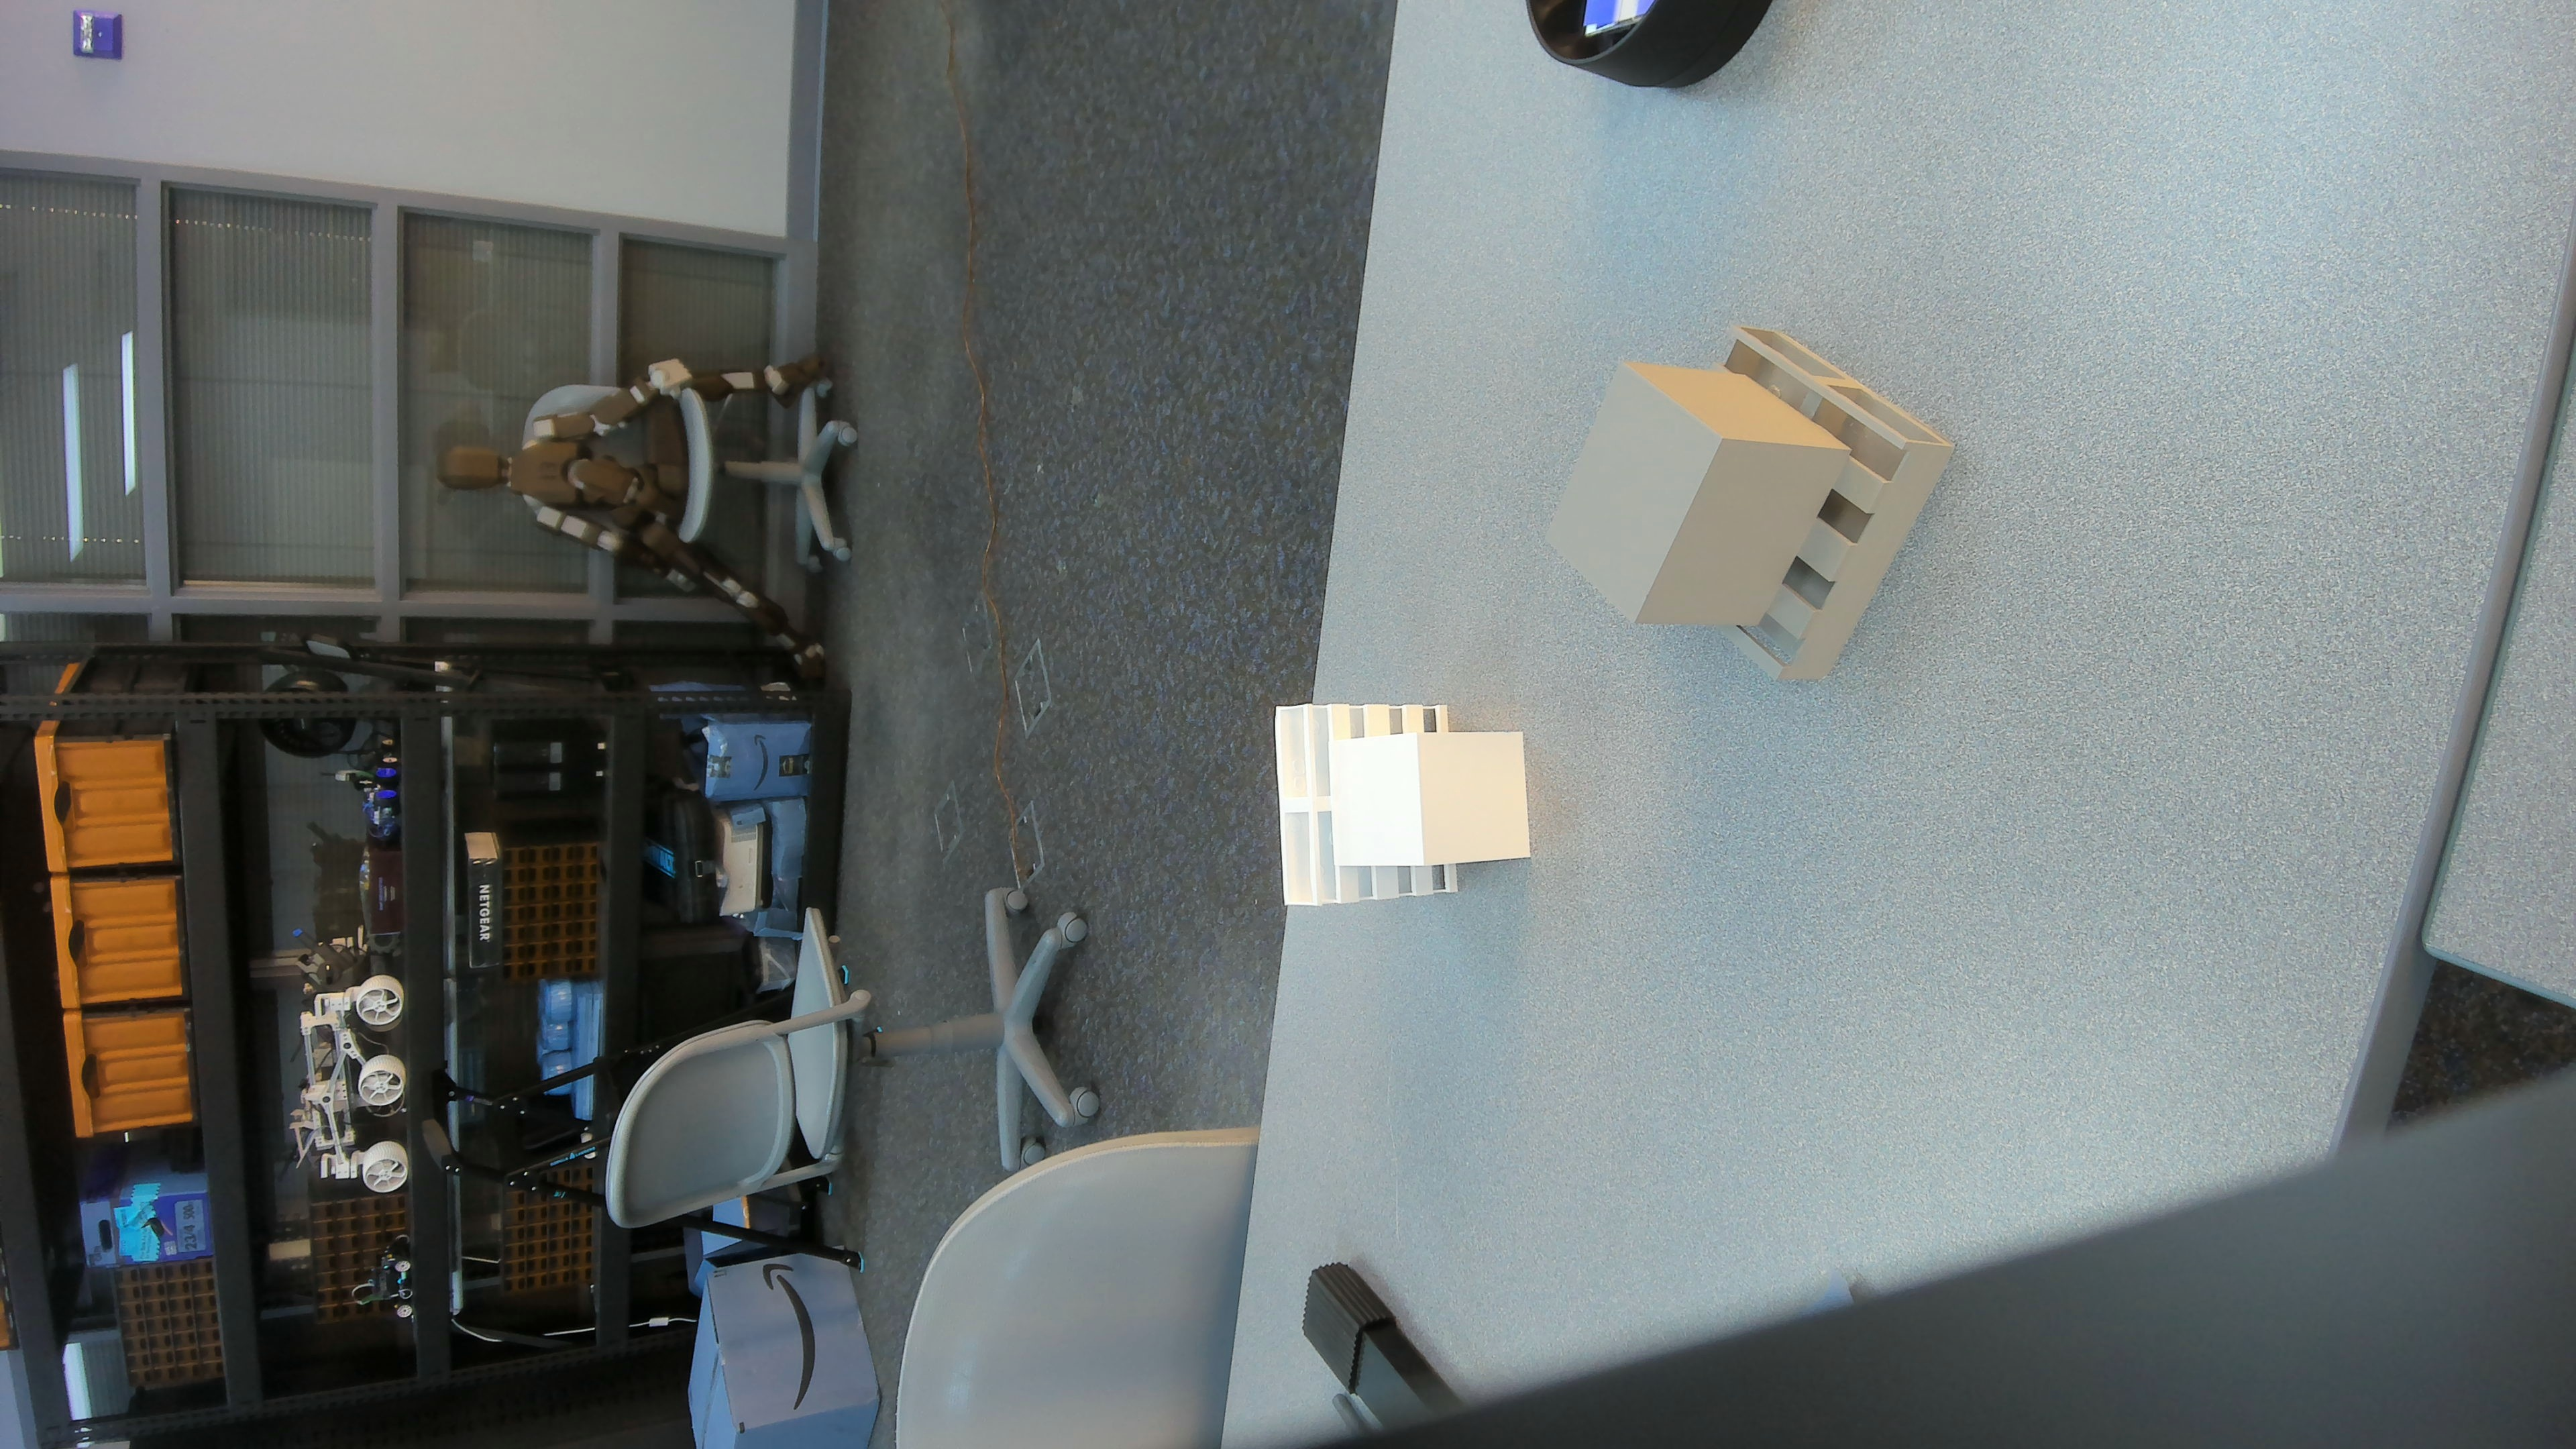grey pallet: (1543, 313, 1966, 697)
white pallet: (1258, 686, 1546, 915)
